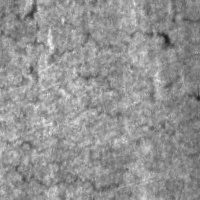crazing: (0, 17, 149, 82), (12, 132, 123, 196), (123, 11, 193, 107)
